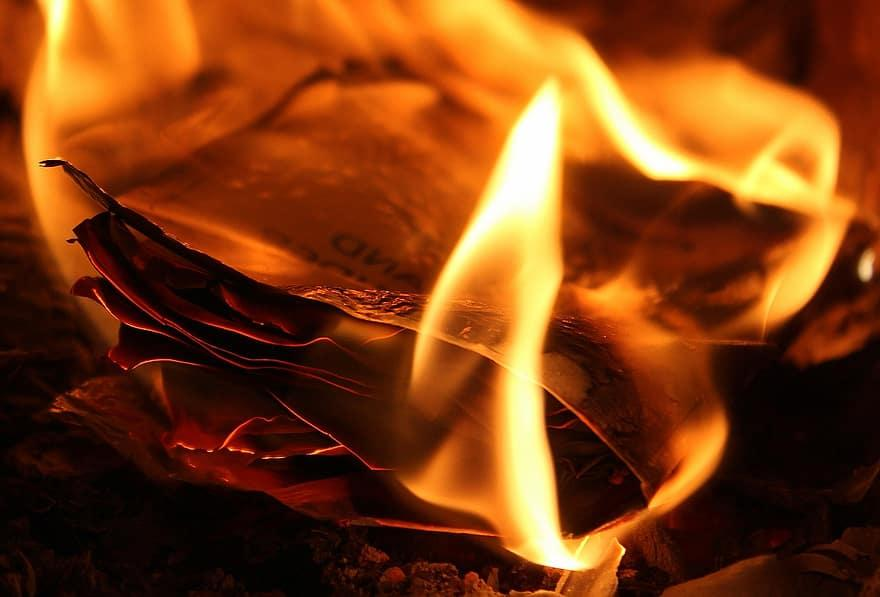Fire: (390, 38, 858, 576)
